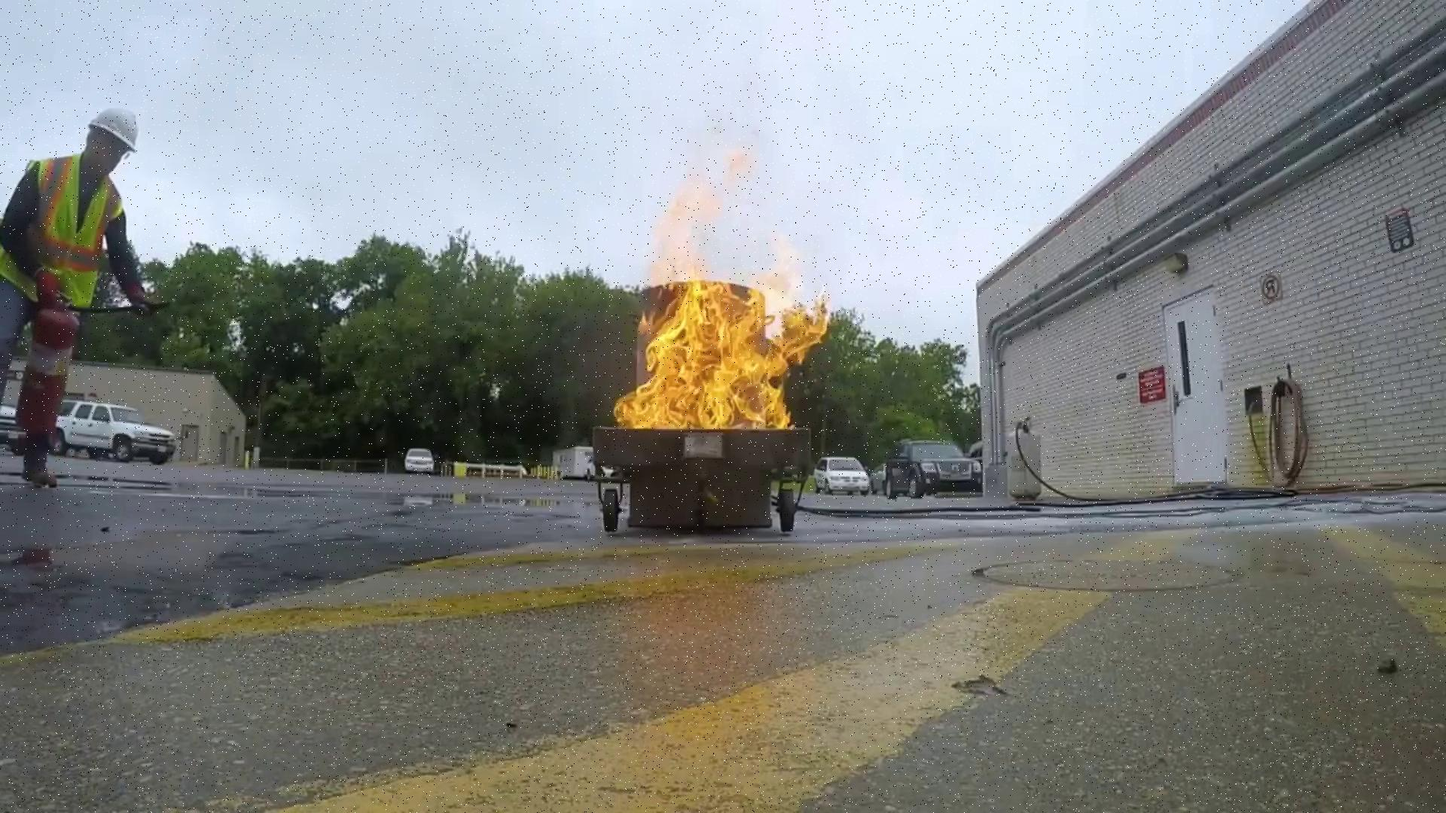Hard_hat: (86, 97, 150, 154)
Vest: (8, 151, 119, 304)
